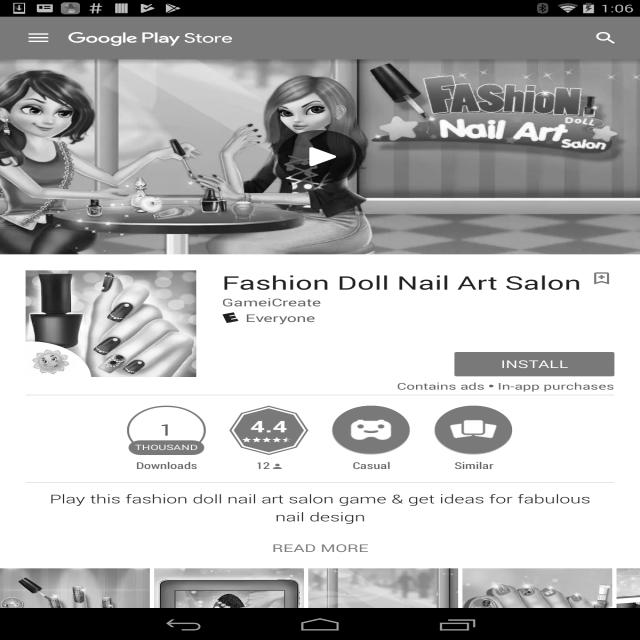Button: (222, 406, 316, 472), (324, 406, 418, 472), (426, 406, 520, 472), (454, 352, 614, 376)
ImageButton: (9, 17, 68, 59)
ImageView: (0, 59, 640, 254), (26, 270, 196, 377), (0, 568, 150, 640), (154, 568, 304, 640), (308, 568, 458, 640), (462, 568, 612, 640), (264, 121, 376, 192), (332, 406, 411, 455), (434, 406, 513, 455), (68, 30, 233, 46), (616, 568, 640, 639), (589, 270, 614, 286), (222, 312, 239, 323), (273, 464, 282, 469)
TextView: (0, 490, 640, 537), (0, 537, 640, 555), (222, 270, 589, 295), (580, 22, 632, 54), (324, 455, 418, 472), (426, 455, 520, 472), (120, 455, 213, 472), (498, 380, 614, 392), (222, 295, 321, 309), (397, 380, 485, 392), (245, 311, 316, 325), (250, 415, 288, 437), (133, 443, 200, 452), (159, 420, 173, 440), (256, 455, 270, 472)
